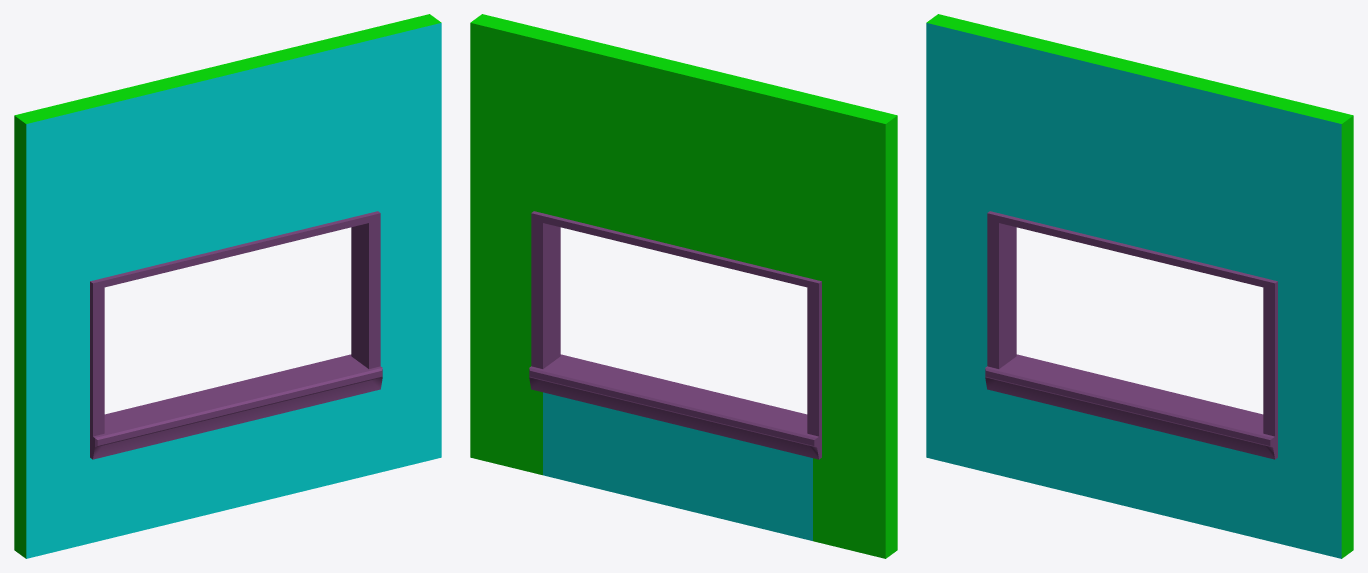
The model's file is Finestra.fbx.
3 views of the same model, side by side, from view 1: azimuth 30°, elevation 25°; view 2: azimuth 150°, elevation 25°; view 3: azimuth 330°, elevation 25° (orthographic).
Visible parts, largest first — view 1: Finestra; view 2: Finestra; view 3: Finestra.
Boxes of the visible parts, left/top/right/bottom form: Finestra: left=14, top=14, right=441, bottom=558; Finestra: left=470, top=14, right=897, bottom=558; Finestra: left=926, top=14, right=1353, bottom=558.
Bounding box in the file's own units: 400 × 400 × 39.5.
